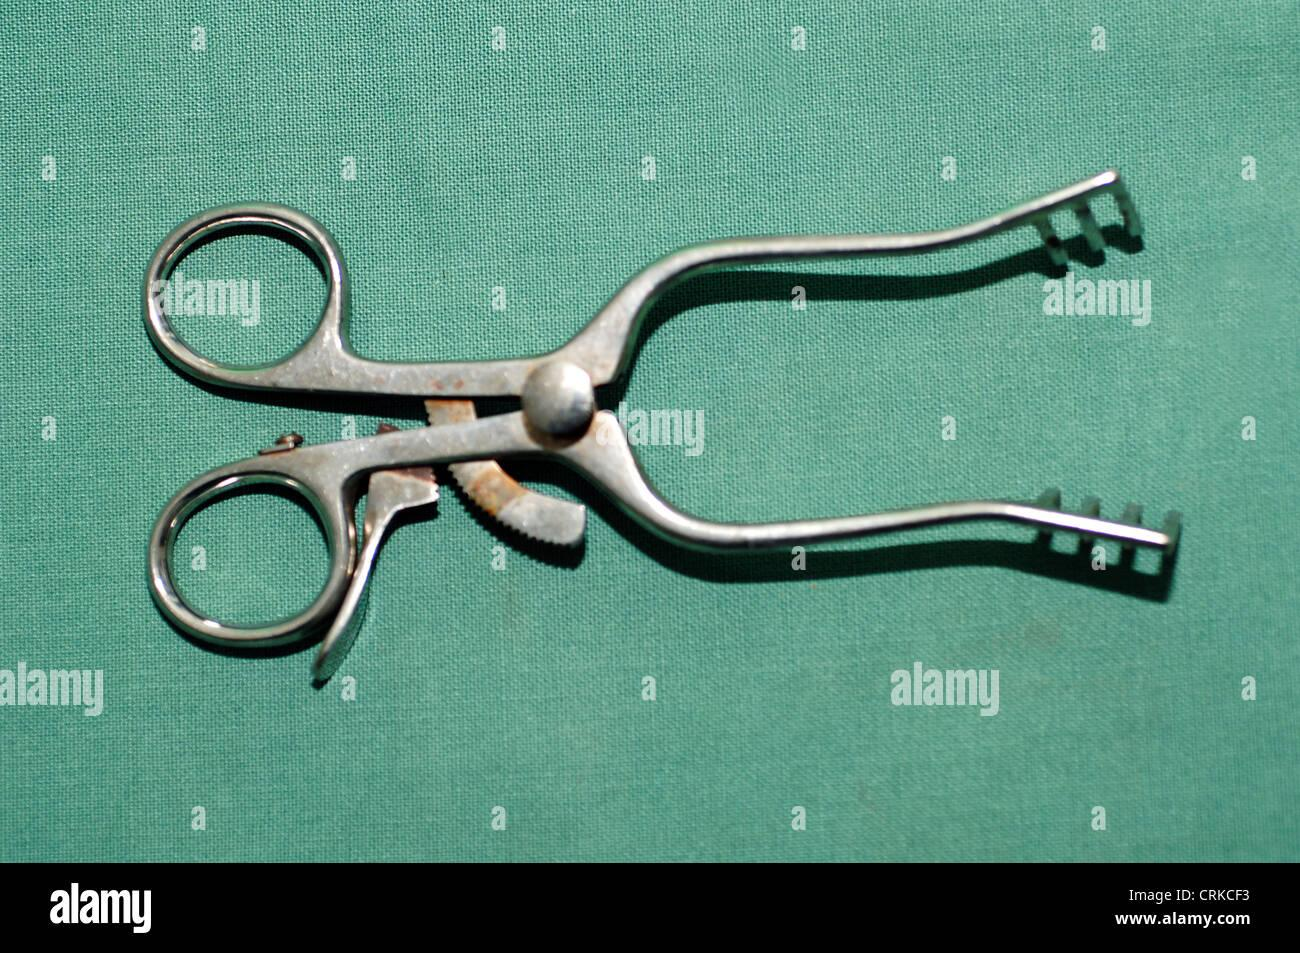Self Retractor: (117, 147, 1207, 693)
